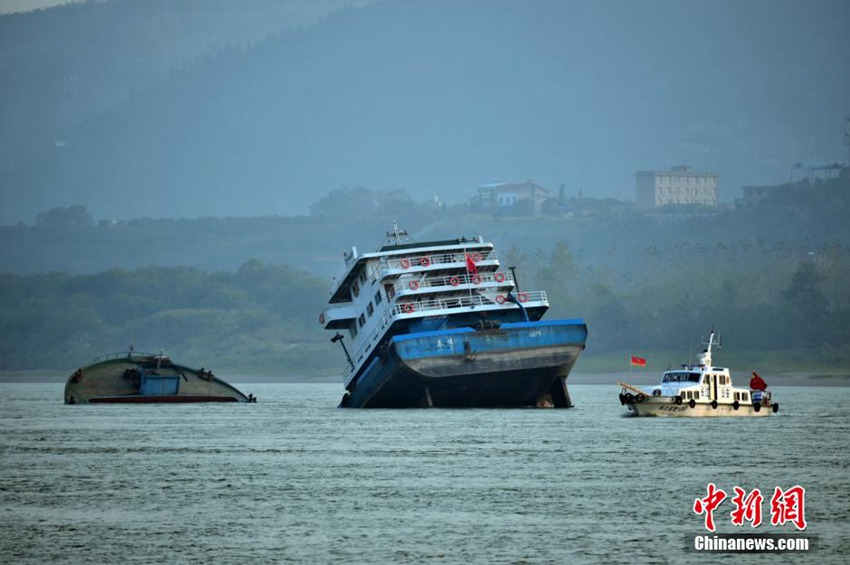Cargoship: (55, 226, 591, 436)
otherboat: (619, 329, 785, 425)
